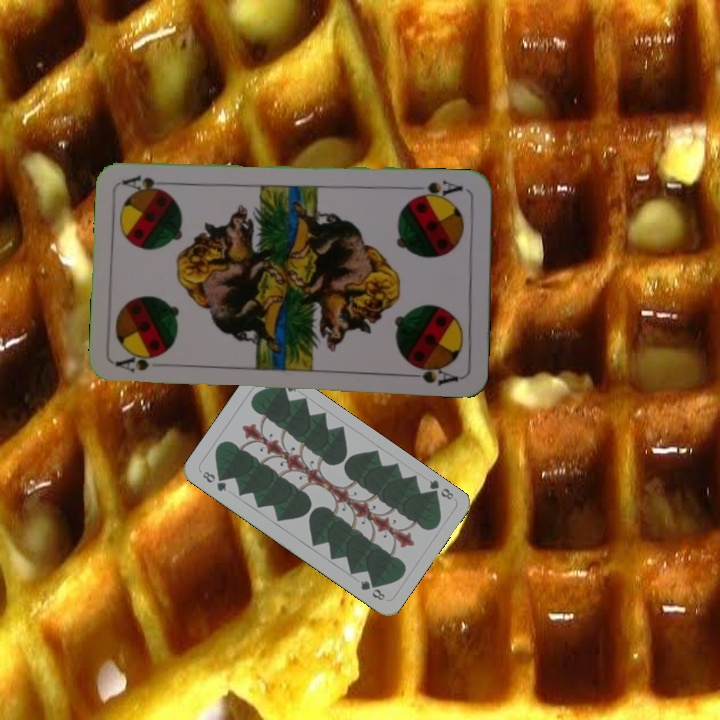G8: (424, 475, 456, 502), (198, 467, 229, 494)
SA: (410, 175, 465, 203), (113, 349, 166, 375)
